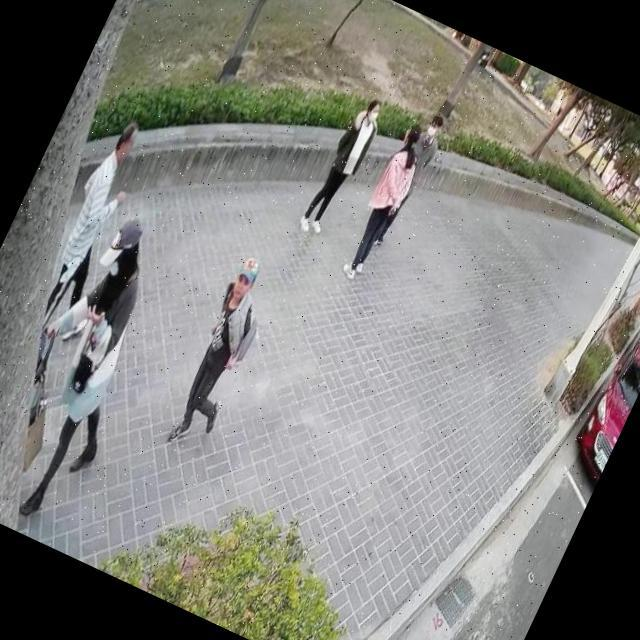person: (0, 196, 197, 534), (18, 103, 163, 342), (156, 248, 292, 459), (332, 114, 439, 290), (292, 88, 393, 247), (369, 107, 455, 252)
